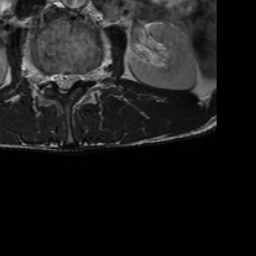CCS_stenosis: (60, 66, 68, 100)
LFS_stenosis: (78, 66, 86, 88)
LLS_stenosis: (68, 66, 77, 92)
RFS_stenosis: (42, 65, 52, 91)
RLS_normal: (52, 67, 60, 93)
